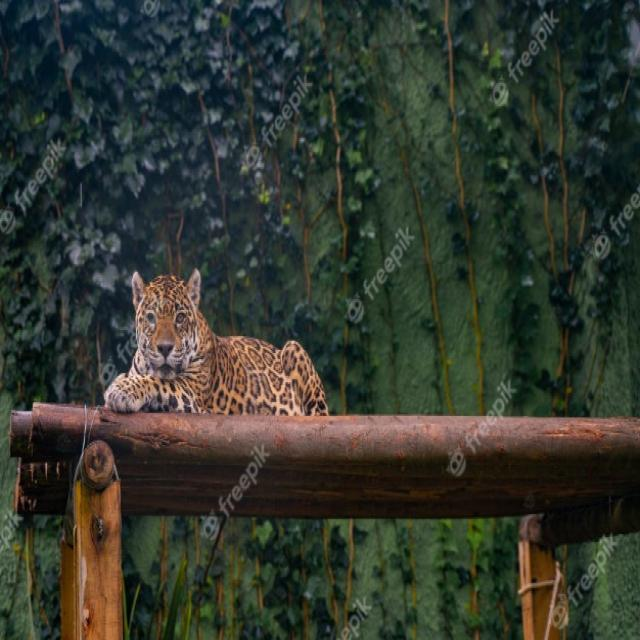Jaguar: (102, 267, 329, 419)
